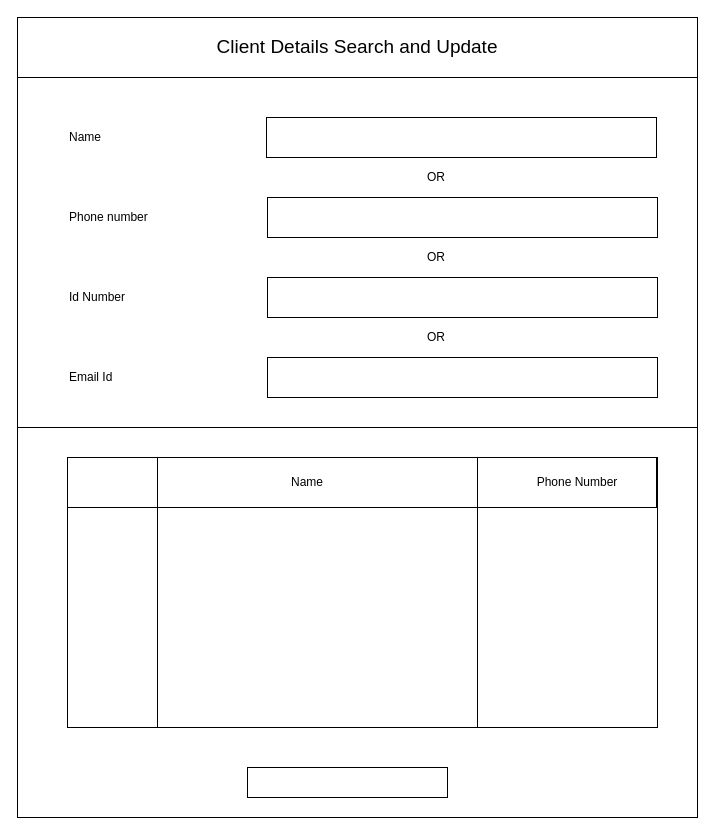
This 715x835 diagram has some shape labels left out. Here are the shapes that lost their labels. From the top down, the box of each, then its label:
(66, 456, 158, 508): Id
(246, 766, 448, 798): Search Details
